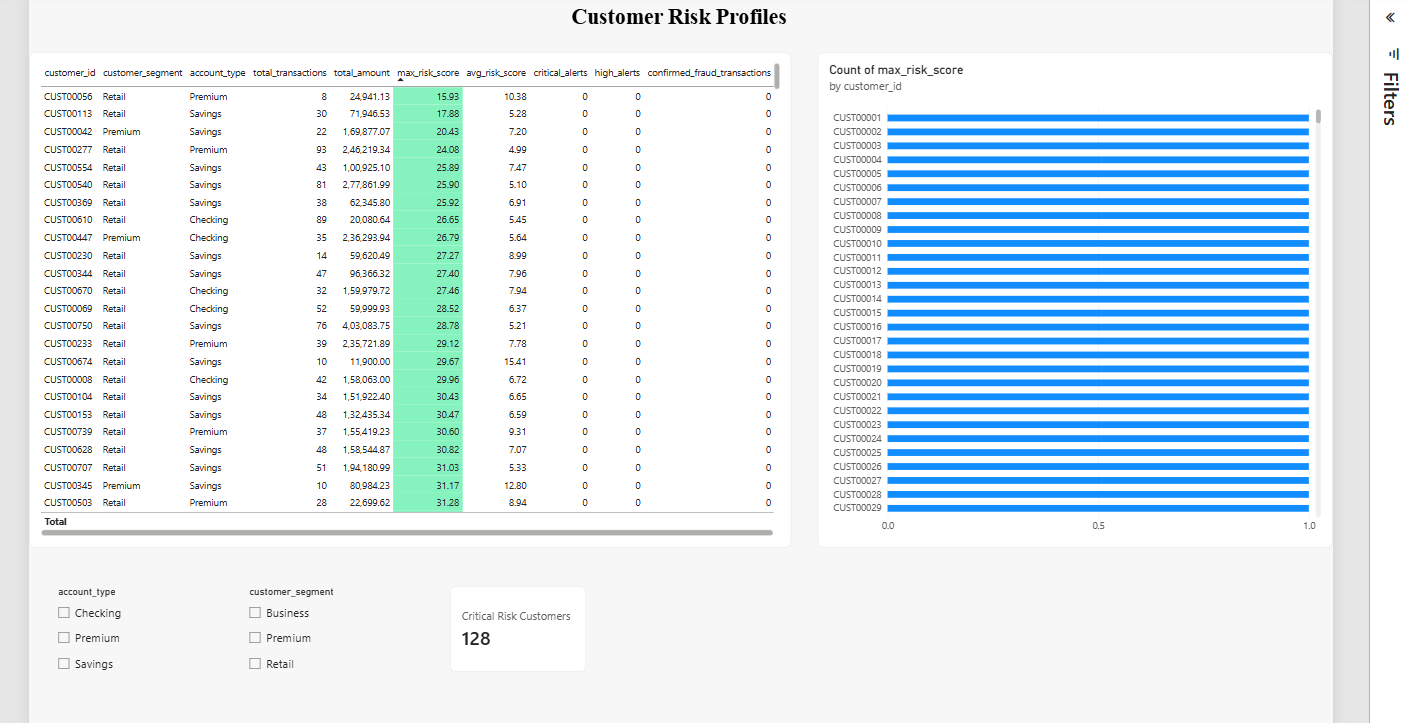

This screenshot's page, from the dashboard's own definition file:
{"tool":"powerbi","page":{"name":"Customer Risk Profiles","canvas":[1920,1080],"ordinal":2},"visuals":[{"type":"textbox","box":[9.2,12.9,1895.7,40.5],"z":0},{"type":"tableEx","fields":{"Values":["dim_customers.customer_id","dim_customers.customer_segment","dim_customers.account_type","dim_customers.total_transactions","dim_customers.total_amount","dim_customers.max_risk_score","dim_customers.avg_risk_score","dim_customers.critical_alerts","dim_customers.high_alerts","dim_customers.confirmed_fraud_transactions"]},"box":[0,84.7,1122.7,728.8],"z":1000},{"type":"clusteredBarChart","fields":{"Category":["dim_customers.customer_id"],"Y":["CountNonNull(dim_customers.max_risk_score)"]},"box":[1161.4,84.7,758.3,728.8],"z":2000},{"type":"cardVisual","fields":{"Data":["_Measures.Critical Risk Customers"]},"box":[620.2,870.6,200.6,127],"z":3000},{"type":"slicer","fields":{"Values":["dim_customers.customer_segment"]},"box":[316.6,870.6,201,150],"z":4000},{"type":"slicer","fields":{"Values":["dim_customers.account_type"]},"box":[35,870.6,178.5,182.2],"z":5000}]}

Visuals, with their boxes on the page's 1920x1080 design canvas (x1, y1, x2, y2). These are canvas units, not pixel positions in the 1410x723 screenshot, which may show the page scaled, cropped or inside an application window:
textbox: box(9, 13, 1905, 53)
tableEx - dim_customers.customer_id x dim_customers.customer_segment: box(0, 85, 1123, 814)
clusteredBarChart - dim_customers.customer_id x CountNonNull(dim_customers.max_risk_score): box(1161, 85, 1920, 814)
cardVisual - _Measures.Critical Risk Customers: box(620, 871, 821, 998)
slicer - dim_customers.customer_segment: box(317, 871, 518, 1021)
slicer - dim_customers.account_type: box(35, 871, 214, 1053)
